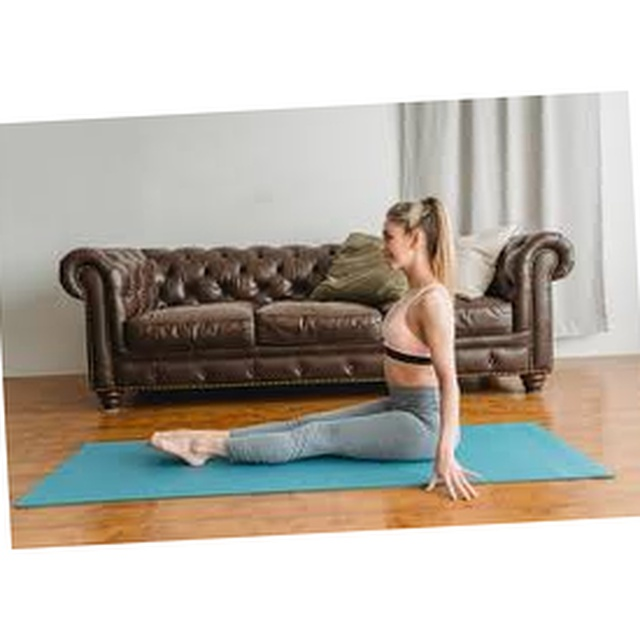Staff_Pose: (148, 197, 483, 504)
